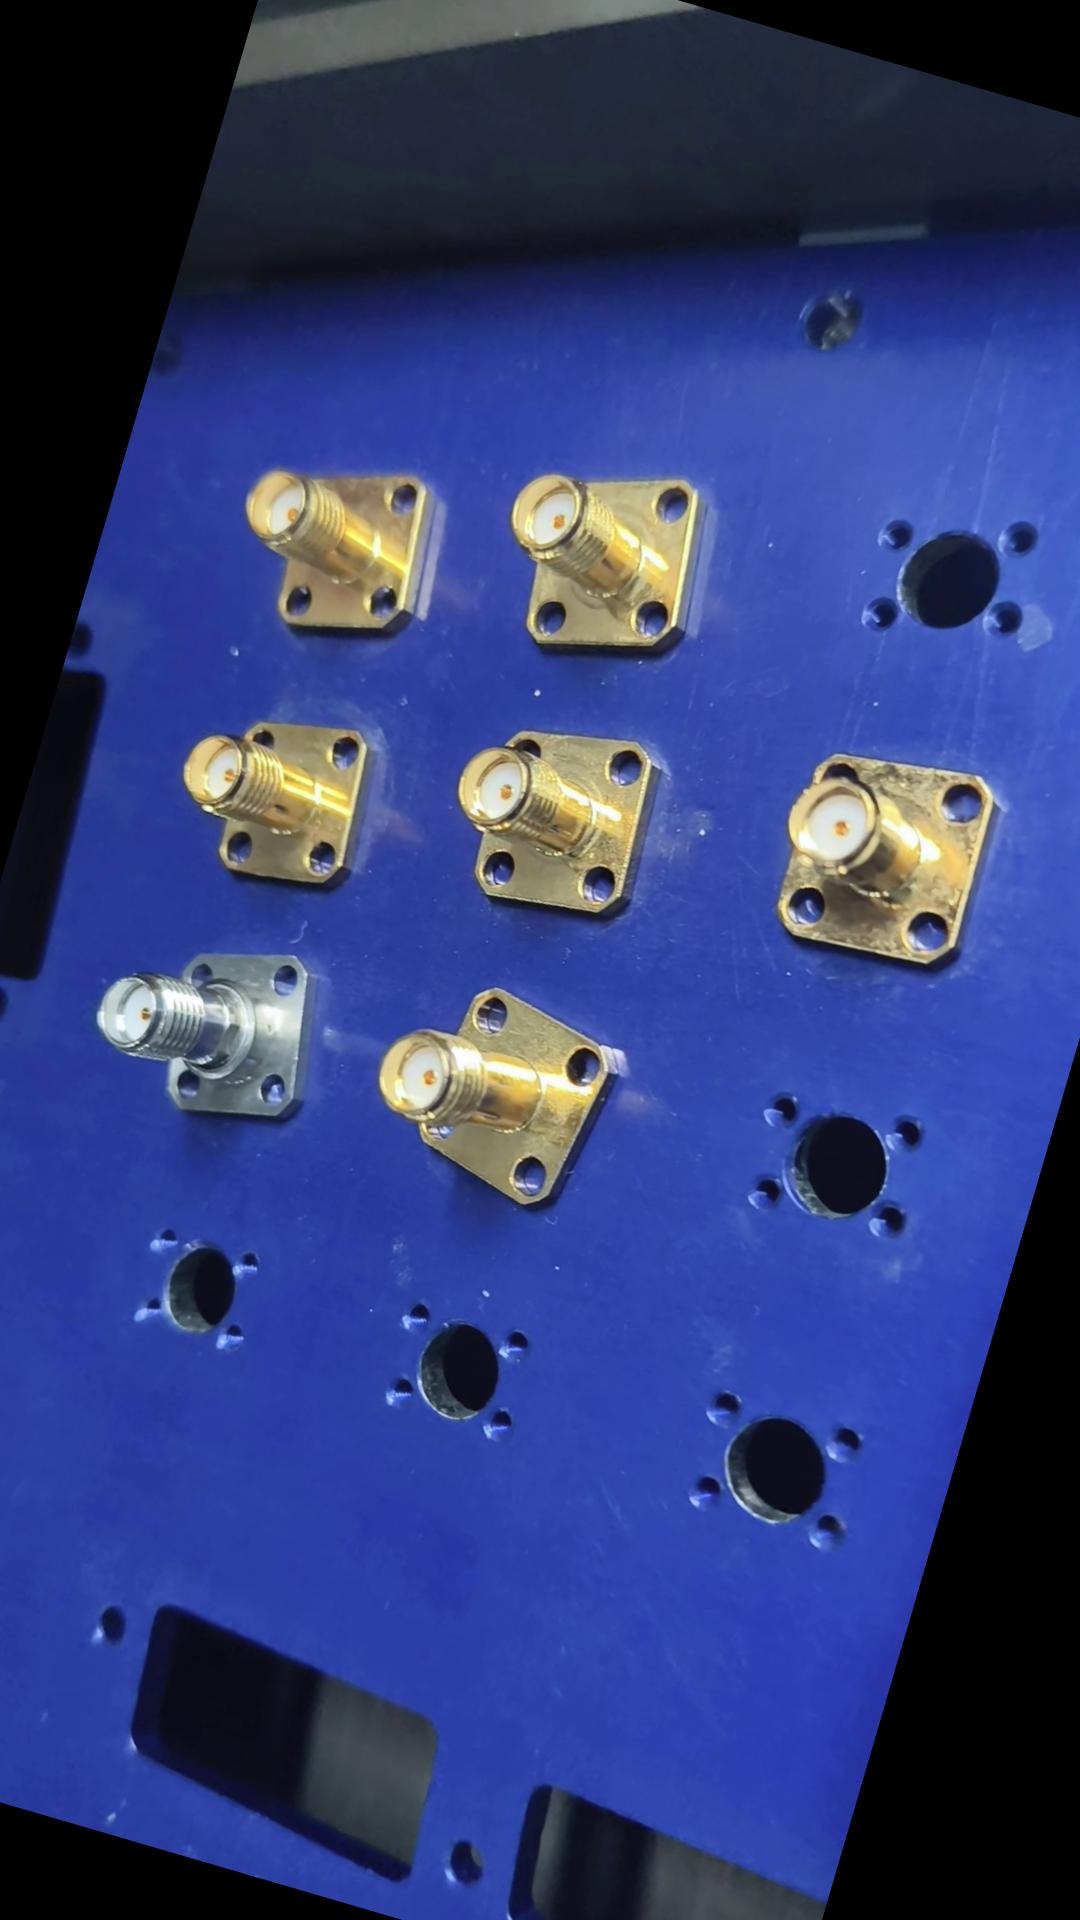SMA: (353, 960, 636, 1222), (752, 727, 1014, 986), (74, 903, 345, 1146), (484, 435, 736, 688), (425, 696, 683, 942), (214, 435, 456, 662), (157, 680, 393, 909)
